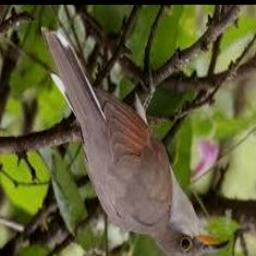Cuckoo: (41, 27, 230, 256)
